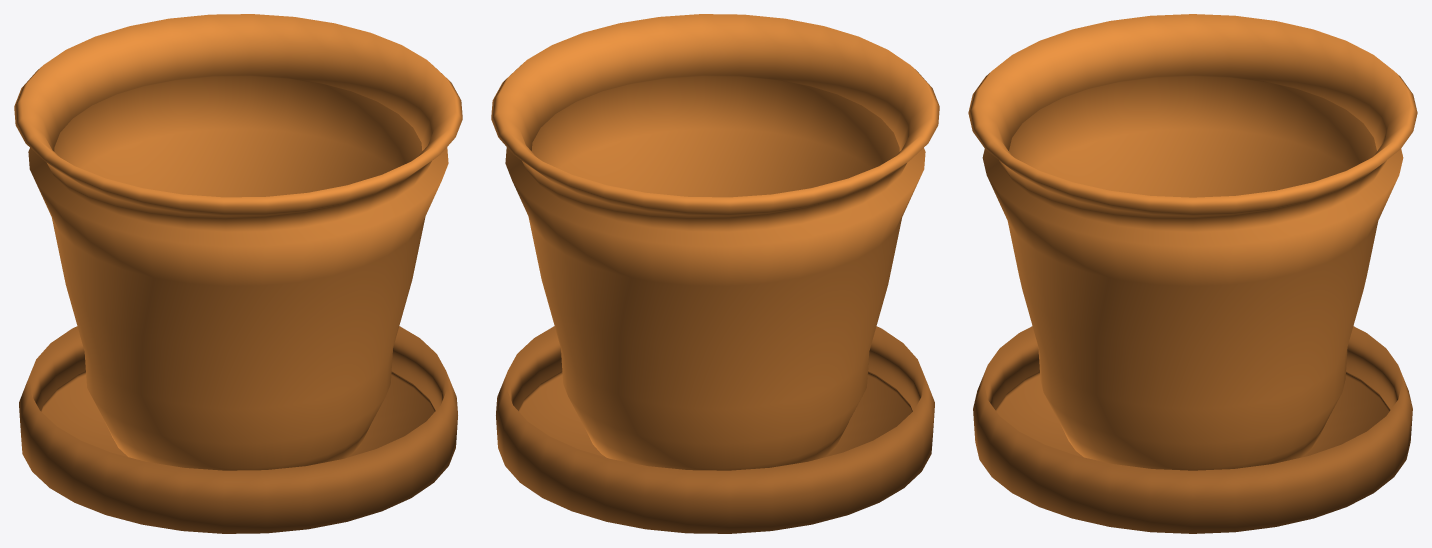
Rendered from vaso.fbx.
The picture shows the model from 3 angles, left to right: view 1: azimuth 30°, elevation 25°; view 2: azimuth 150°, elevation 25°; view 3: azimuth 270°, elevation 25°; orthographic projection.
Visible parts, largest first — view 1: vaso; view 2: vaso; view 3: vaso.
Part boxes in pixels (x1,y1,x2,y2): vaso: (14, 14, 462, 533); vaso: (491, 14, 939, 533); vaso: (968, 14, 1417, 533).
Size of the model in its own units: 41.46 by 37.86 by 41.46.
